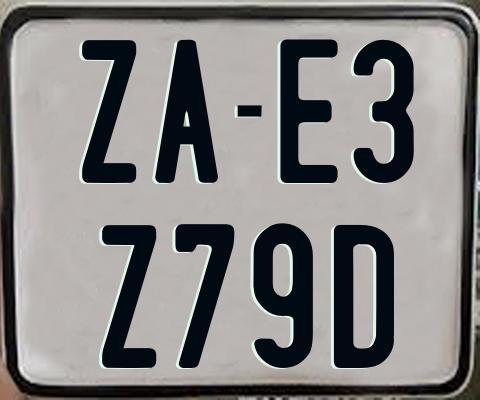3: (352, 39, 418, 187)
7: (174, 221, 235, 367)
9: (253, 223, 314, 368)
A: (154, 37, 223, 186)
D: (333, 222, 393, 369)
E: (277, 39, 335, 188)
Z: (82, 38, 139, 181), (102, 223, 156, 367)
